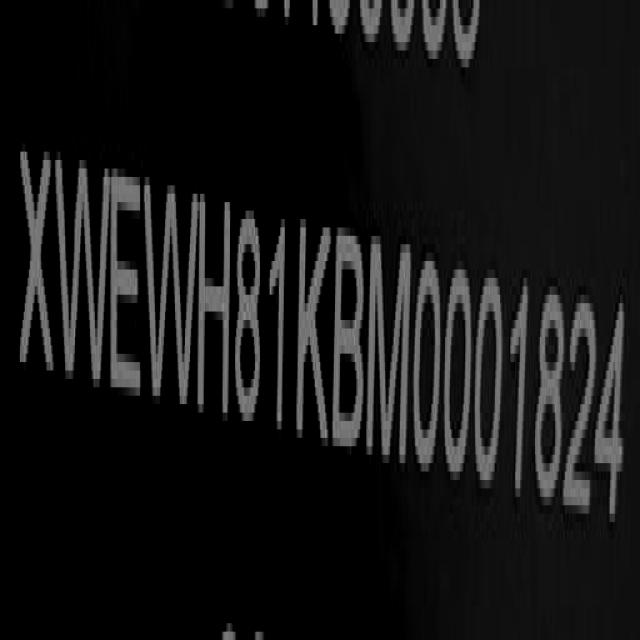0: (410, 240, 444, 480), (472, 259, 506, 486), (440, 250, 472, 480)
1: (507, 265, 529, 493), (265, 193, 285, 437)
2: (562, 246, 597, 534)
4: (593, 259, 626, 549)
8: (532, 278, 566, 505), (233, 203, 263, 430)
B: (332, 200, 365, 480)
E: (109, 159, 141, 406)
H: (198, 159, 232, 434)
K: (296, 190, 329, 462)
M: (364, 212, 411, 480)
W: (143, 153, 199, 424), (54, 137, 109, 406)
X: (20, 119, 54, 396)
